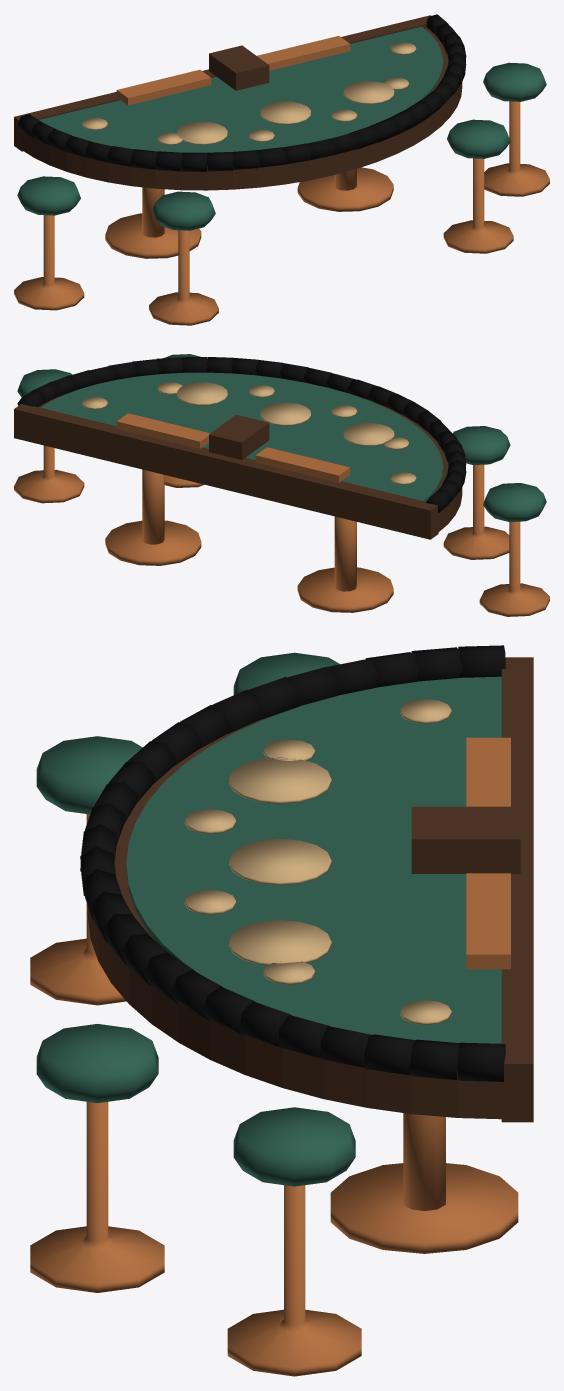
File: baccarat_table.glb
3 renders of one model, top to bottom at view 1: azimuth 30°, elevation 25°; view 2: azimuth 150°, elevation 25°; view 3: azimuth 270°, elevation 25°, orthographic. The views are drawn at different scales.
Visible parts, largest first — view 1: baccarat_table felt, baccarat_table metal, baccarat_table wood, baccarat_table rubber, baccarat_table stone; view 2: baccarat_table felt, baccarat_table metal, baccarat_table wood, baccarat_table rubber, baccarat_table stone; view 3: baccarat_table felt, baccarat_table metal, baccarat_table wood, baccarat_table rubber, baccarat_table stone.
Boxes of the visible parts, bbox=[...] form: baccarat_table felt: bbox=[17, 26, 546, 230]; baccarat_table metal: bbox=[14, 36, 549, 325]; baccarat_table wood: bbox=[14, 15, 462, 190]; baccarat_table rubber: bbox=[17, 14, 466, 171]; baccarat_table stone: bbox=[82, 42, 416, 144]; baccarat_table felt: bbox=[17, 354, 546, 521]; baccarat_table metal: bbox=[14, 413, 549, 616]; baccarat_table wood: bbox=[14, 384, 462, 539]; baccarat_table rubber: bbox=[17, 357, 466, 513]; baccarat_table stone: bbox=[82, 382, 416, 484]; baccarat_table felt: bbox=[36, 652, 501, 1186]; baccarat_table metal: bbox=[30, 737, 518, 1376]; baccarat_table wood: bbox=[87, 657, 533, 1122]; baccarat_table rubber: bbox=[80, 645, 505, 1081]; baccarat_table stone: bbox=[184, 699, 451, 1024].
Size of what is drawn, in the model's own units: 3.79 by 1.02 by 1.57.
